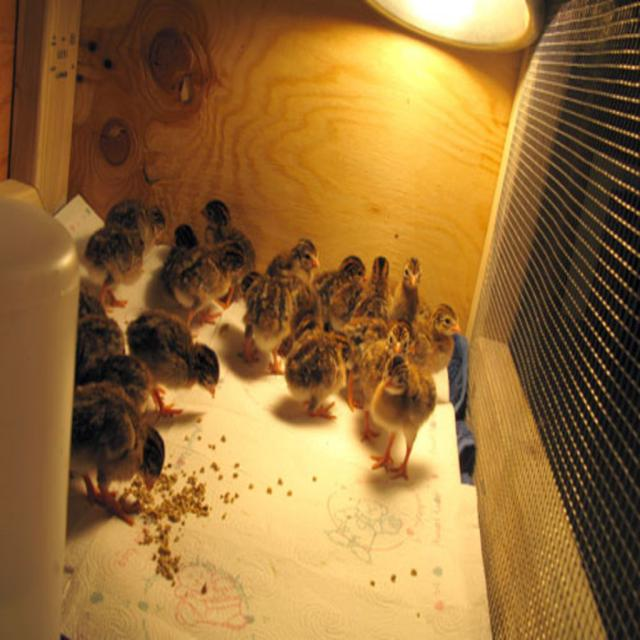Chicken: (363, 343, 443, 480)
